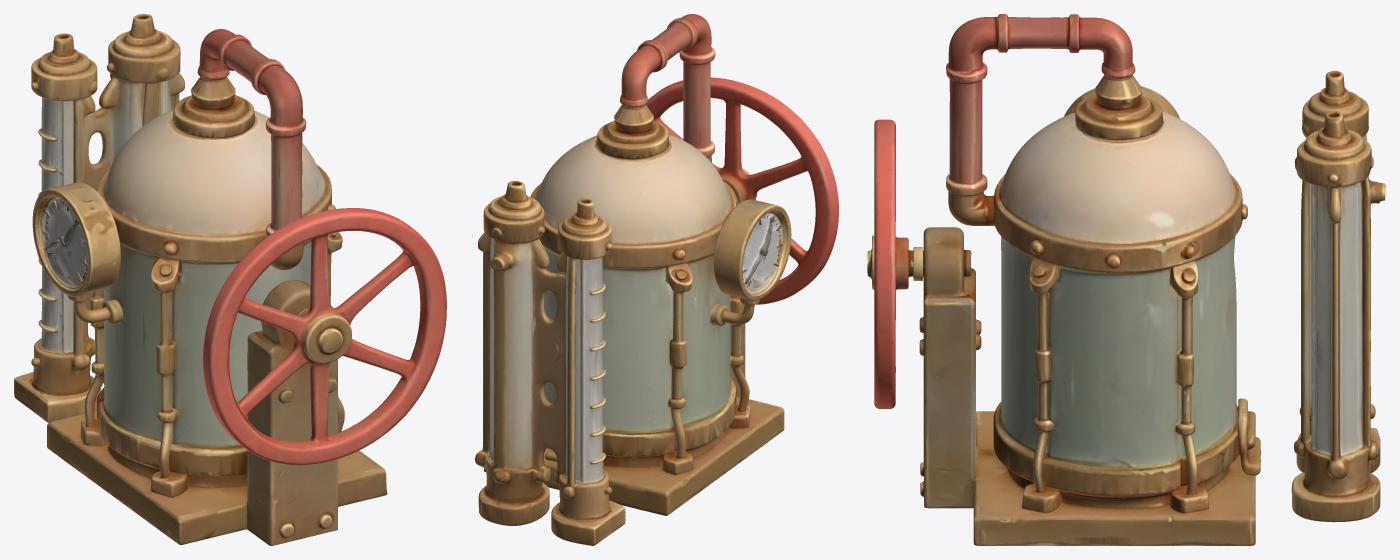
File: act1_boiler_pump_anim.glb
3 views of the same model, side by side, from view 1: azimuth 30°, elevation 25°; view 2: azimuth 150°, elevation 25°; view 3: azimuth 270°, elevation 25° (orthographic). The views are drawn at different scales.
Parts seen in each view (by area): view 1: SM_Act1_BoilerBody, SM_Act1_BoilerWheelMesh; view 2: SM_Act1_BoilerBody, SM_Act1_BoilerWheelMesh; view 3: SM_Act1_BoilerBody, SM_Act1_BoilerWheelMesh.
Part boxes in pixels (bbox=[...]): SM_Act1_BoilerBody: bbox=[14, 14, 387, 545]; SM_Act1_BoilerWheelMesh: bbox=[203, 208, 446, 465]; SM_Act1_BoilerBody: bbox=[475, 14, 791, 545]; SM_Act1_BoilerWheelMesh: bbox=[646, 77, 838, 304]; SM_Act1_BoilerBody: bbox=[919, 14, 1385, 545]; SM_Act1_BoilerWheelMesh: bbox=[867, 119, 913, 408].
Size of the model in its own units: 0.5842 by 0.9266 by 0.9155.
Materials: 2 (1 with a texture image).
